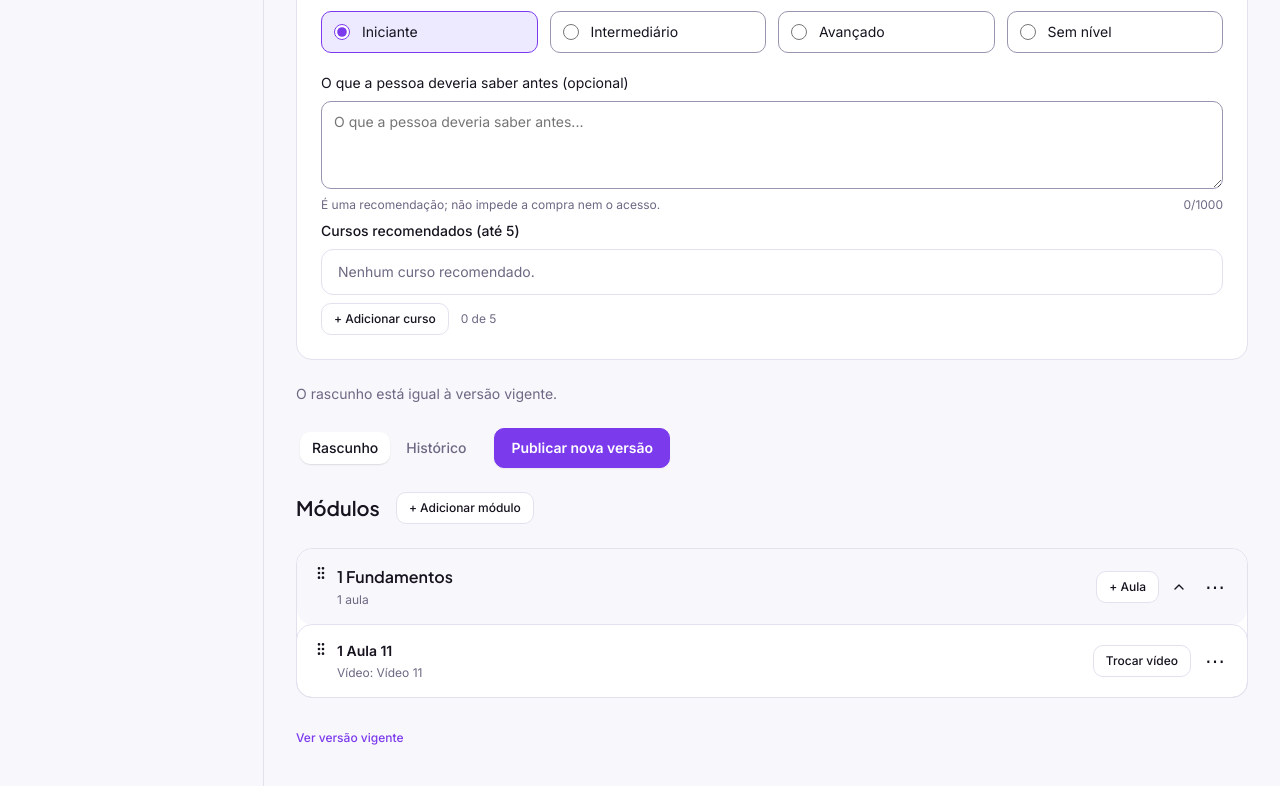
Scenario: authoring editor against Figma › keeps the publish button and tells the draft equals the current version when nothing changed
(page scrolled)
Expected: the text "O rascunho está igual à versão vigente." is shown, [296, 385, 557, 402]
Click the button "Publicar nova versão". click: (582, 448)
box: [494, 428, 670, 468]
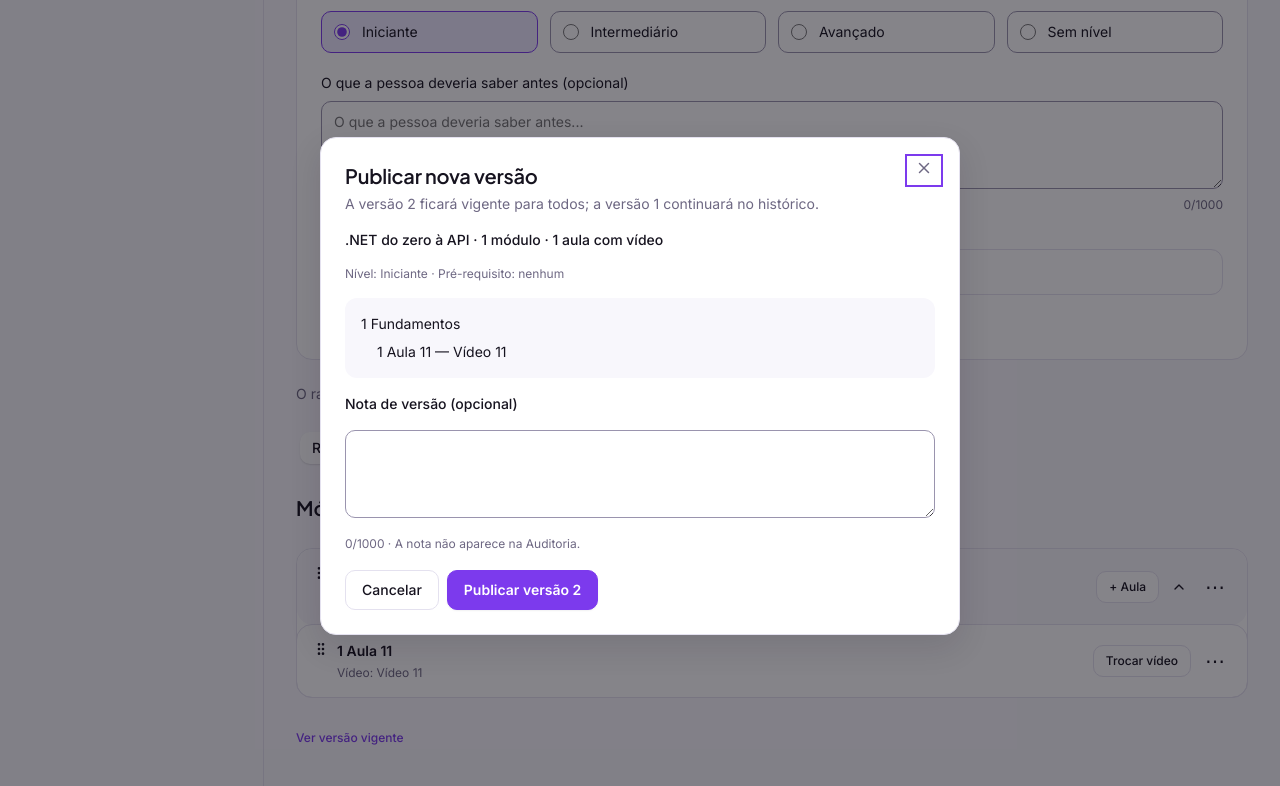
Now the heading "Publicar nova versão" is shown, box [345, 163, 538, 188]
Now the dialog shows "A versão 2 ficará vigente para todos; a versão 1 continuará no histórico.", box [345, 195, 819, 212]
